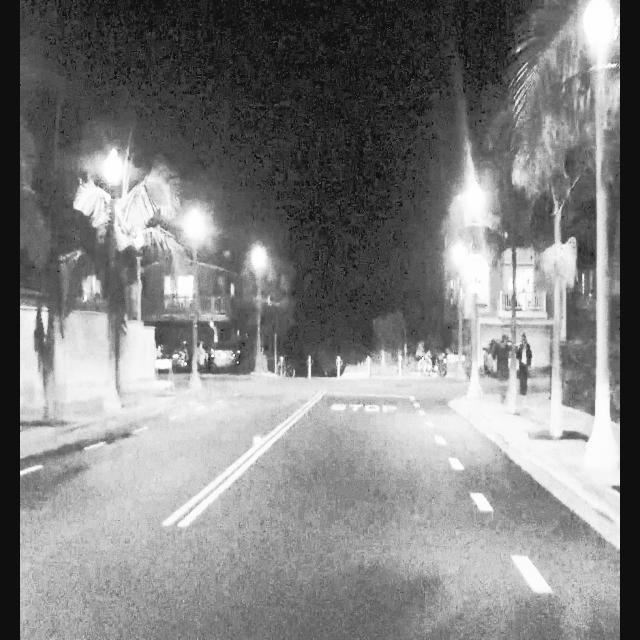Sign: (465, 254, 488, 284)
